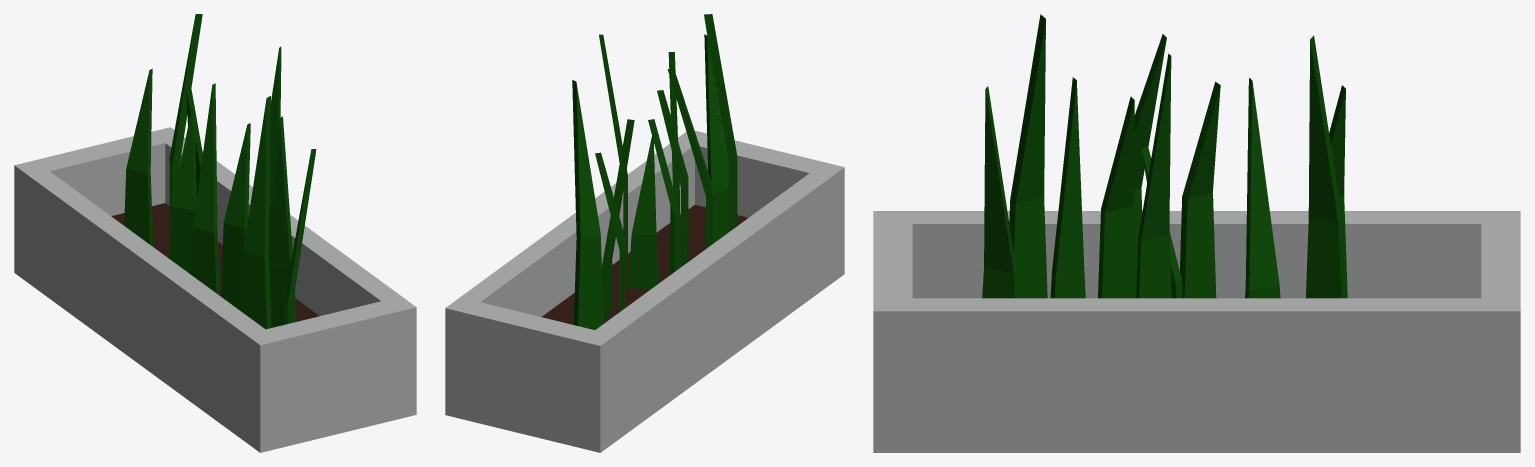
File: Plant.0.fbx
3 views of the same model, side by side, from view 1: azimuth 30°, elevation 25°; view 2: azimuth 150°, elevation 25°; view 3: azimuth 270°, elevation 25° (orthographic). The views are drawn at different scales.
Visible parts, largest first — view 1: flower pot; view 2: flower pot; view 3: flower pot.
Boxes of the visible parts, x1,y1,x2,y2 form: flower pot: (14, 14, 416, 452); flower pot: (445, 14, 844, 452); flower pot: (873, 14, 1520, 452).
Bounding box in the file's own units: 200 × 356 × 545.
